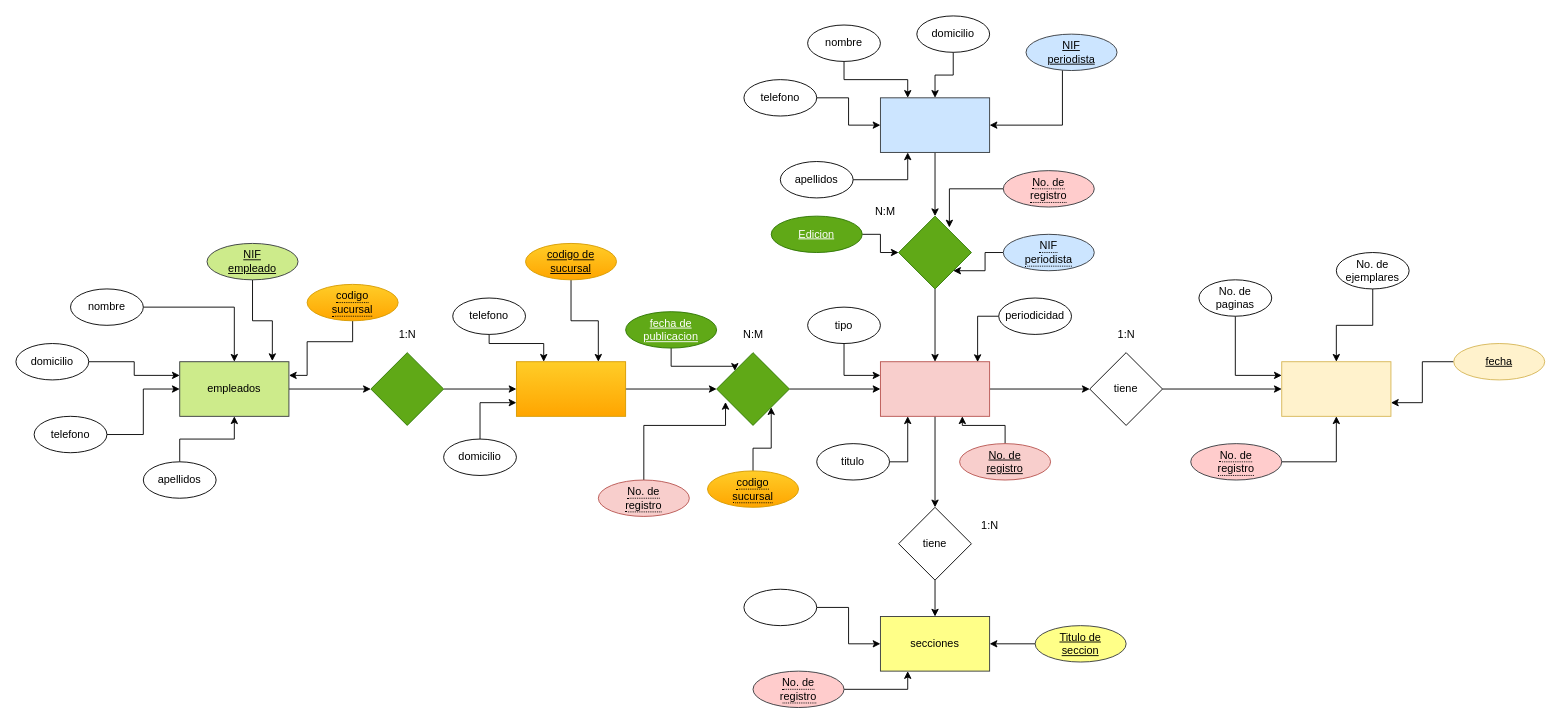
Image size: 1561x723. Some labels were removed from this diagram. Here are the shapes that lost their labels. From the top down, the centre of each, then its label:
At point 935,124: "periodistas".
At point 934,252: "editan".
At point 407,388: "trabaja".
At point 571,388: "sucursales".
At point 752,388: "publica".
At point 935,388: "revistas".
At point 1336,388: "ejemplar".
At point 780,607: "extencion".
